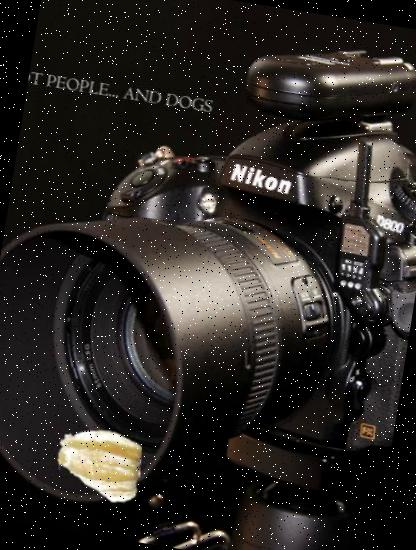Physalis: (50, 417, 148, 516)
